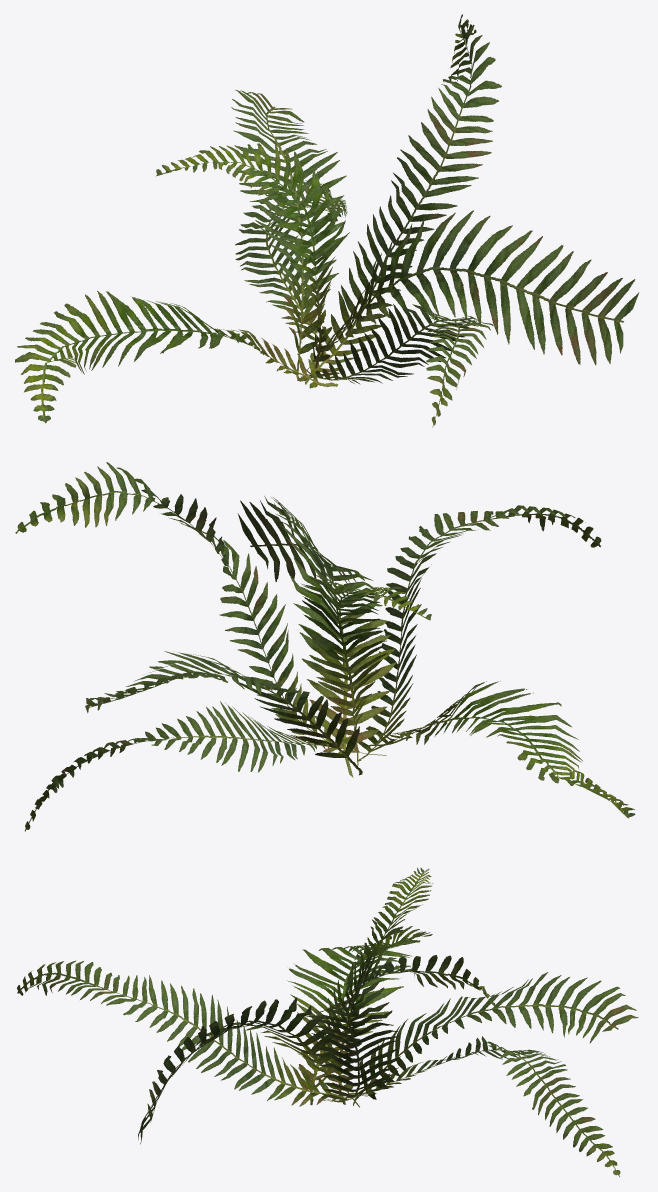
File: samambaia_2.glb
The picture shows the model from 3 angles, top to bottom: view 1: azimuth 30°, elevation 25°; view 2: azimuth 150°, elevation 25°; view 3: azimuth 270°, elevation 25°; orthographic projection. The views are drawn at different scales.
Visible parts, largest first — view 1: samambaia; view 2: samambaia; view 3: samambaia.
Boxes of the visible parts, x1=… form: samambaia: x1=15, y1=14, x2=639, y2=427; samambaia: x1=15, y1=462, x2=635, y2=831; samambaia: x1=17, y1=867, x2=638, y2=1176.
Bounding box in the file's own units: 0.5519 × 0.2868 × 0.6134.
1 material, 1 textured.
